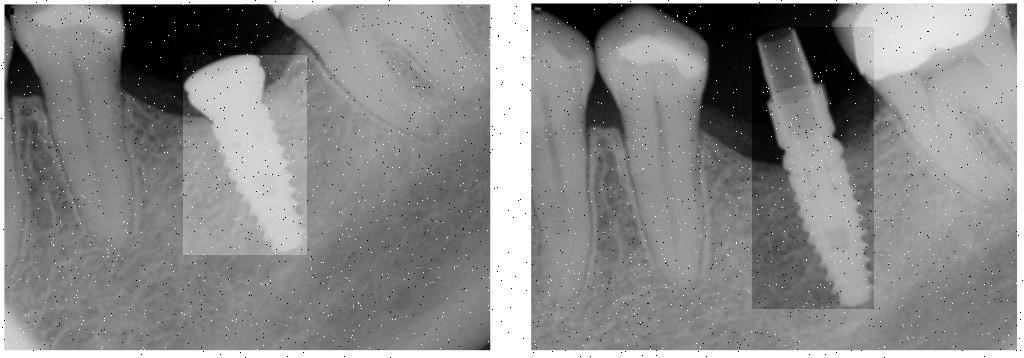BioHorizons: (744, 18, 888, 318), (177, 42, 343, 267)
